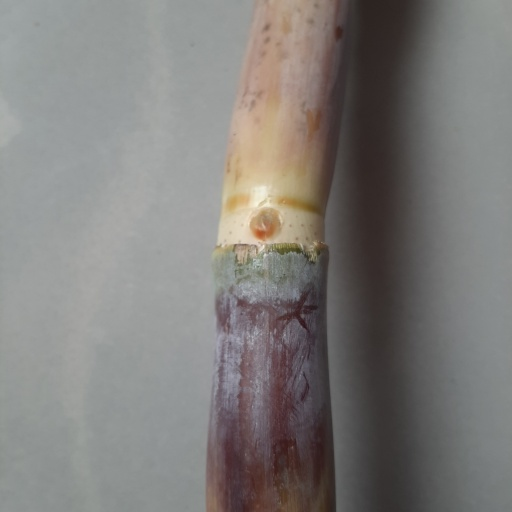Bud: (247, 208, 284, 240)
